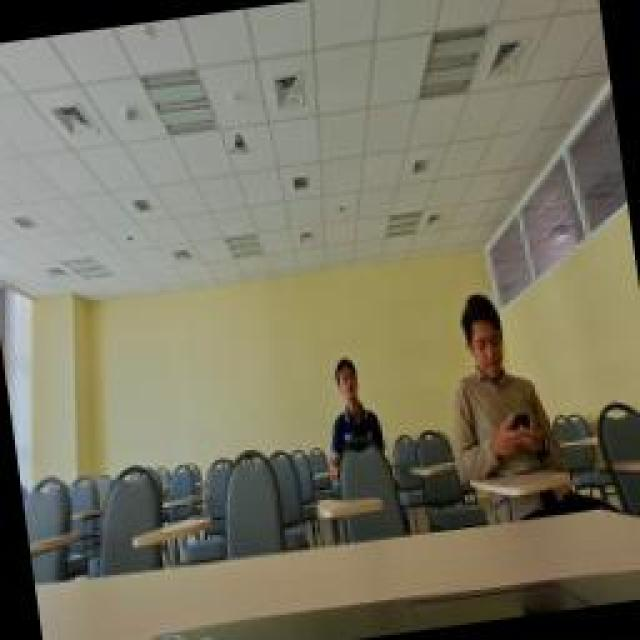phone: (430, 278, 565, 480)
study: (315, 348, 393, 500)
